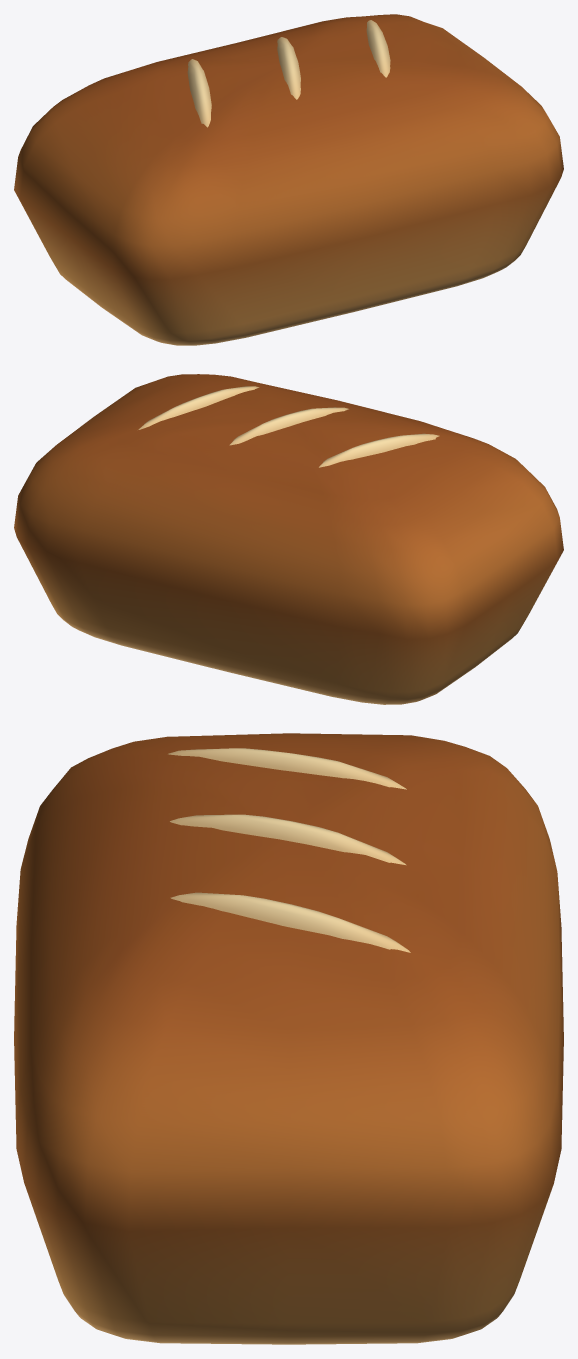
Rendered from bread-loaf.glb.
3 renders of one model, top to bottom at view 1: azimuth 30°, elevation 25°; view 2: azimuth 150°, elevation 25°; view 3: azimuth 270°, elevation 25°, orthographic. The views are drawn at different scales.
Visible parts, largest first — view 1: bread-loaf-crust, bread-loaf-crumb; view 2: bread-loaf-crust, bread-loaf-crumb; view 3: bread-loaf-crust, bread-loaf-crumb.
Boxes of the visible parts, box(x1,y1,x2,y2) form: bread-loaf-crust: box(14, 14, 563, 345); bread-loaf-crumb: box(187, 20, 390, 127); bread-loaf-crust: box(14, 374, 563, 704); bread-loaf-crumb: box(138, 386, 439, 467); bread-loaf-crust: box(14, 733, 563, 1344); bread-loaf-crumb: box(168, 748, 410, 952).
Bounding box in the file's own units: 1 × 0.4603 × 0.6042.
